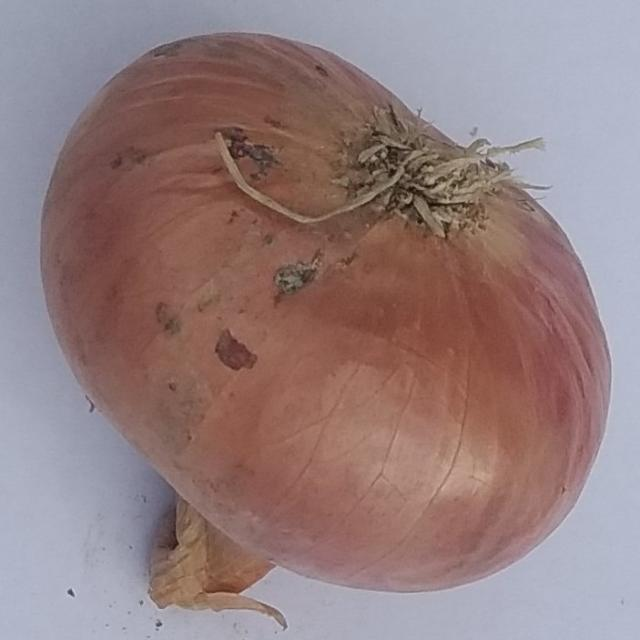onion: (39, 27, 621, 629)
